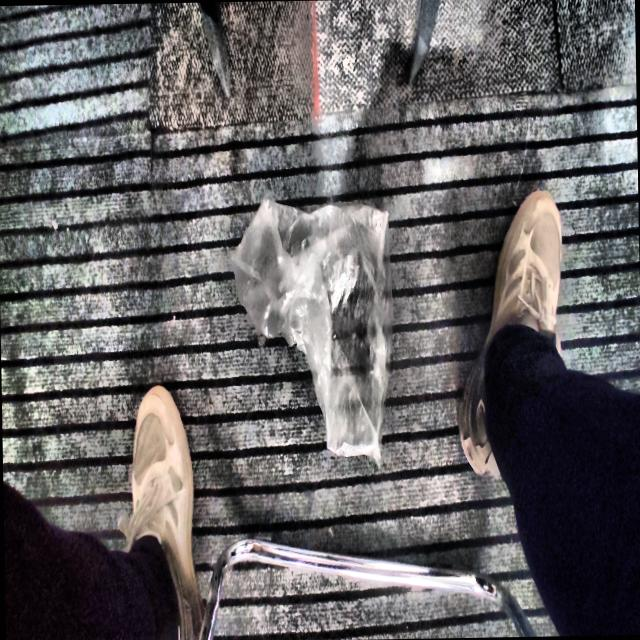plastic bag: (231, 198, 393, 463)
